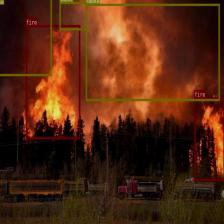fire: (26, 24, 80, 138), (194, 97, 224, 180)
smoke: (86, 4, 219, 100), (0, 0, 52, 75), (59, 2, 87, 29)
